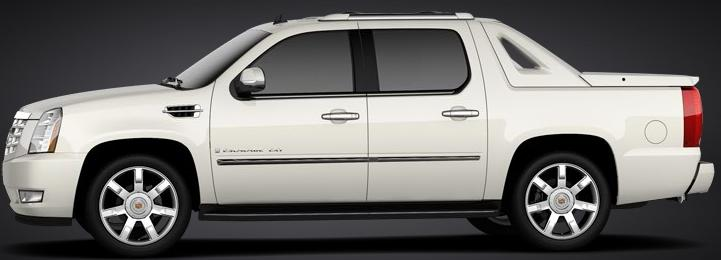backlight: (677, 78, 708, 151)
front_view: (0, 98, 74, 225)
headlight: (21, 105, 68, 157)
side_glass: (241, 27, 478, 104)
